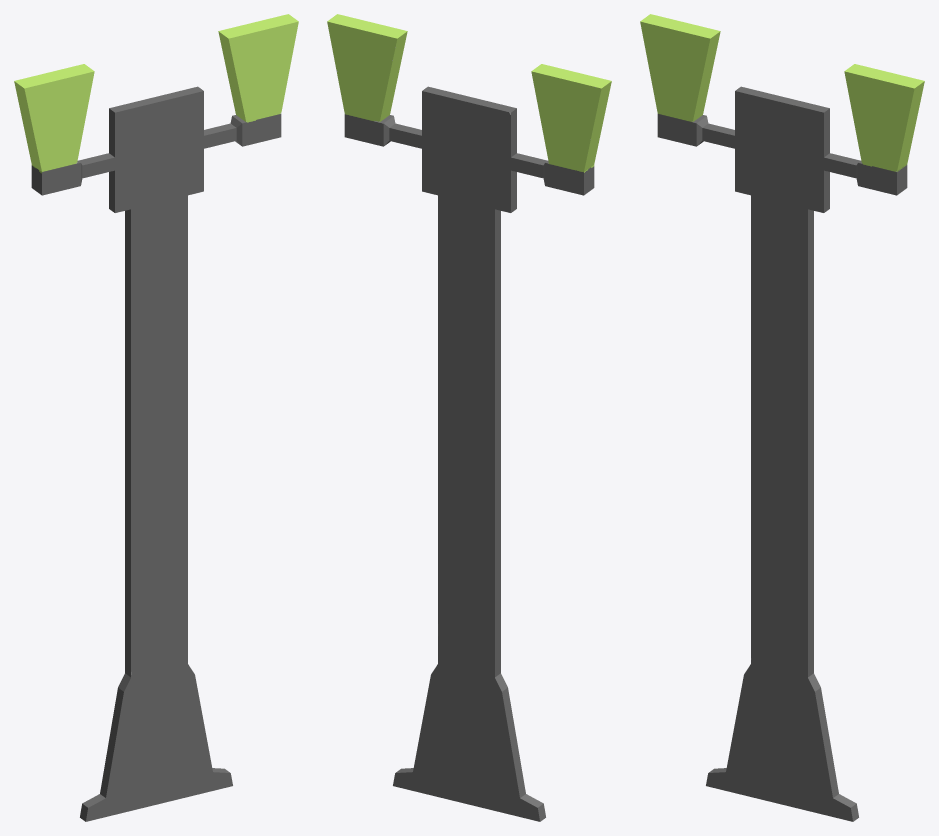
Rendered from Lampost.gltf.
3 renders of one model, left to right at view 1: azimuth 30°, elevation 25°; view 2: azimuth 150°, elevation 25°; view 3: azimuth 330°, elevation 25°, orthographic.
Visible parts, largest first — view 1: Lampost; view 2: Lampost; view 3: Lampost.
Part boxes in pixels (bbox=[...]): Lampost: bbox=[14, 14, 298, 821]; Lampost: bbox=[327, 14, 611, 821]; Lampost: bbox=[640, 14, 924, 821].
Bounding box in the file's own units: 1.43 × 3.73 × 0.093.
1 material, 1 textured.
